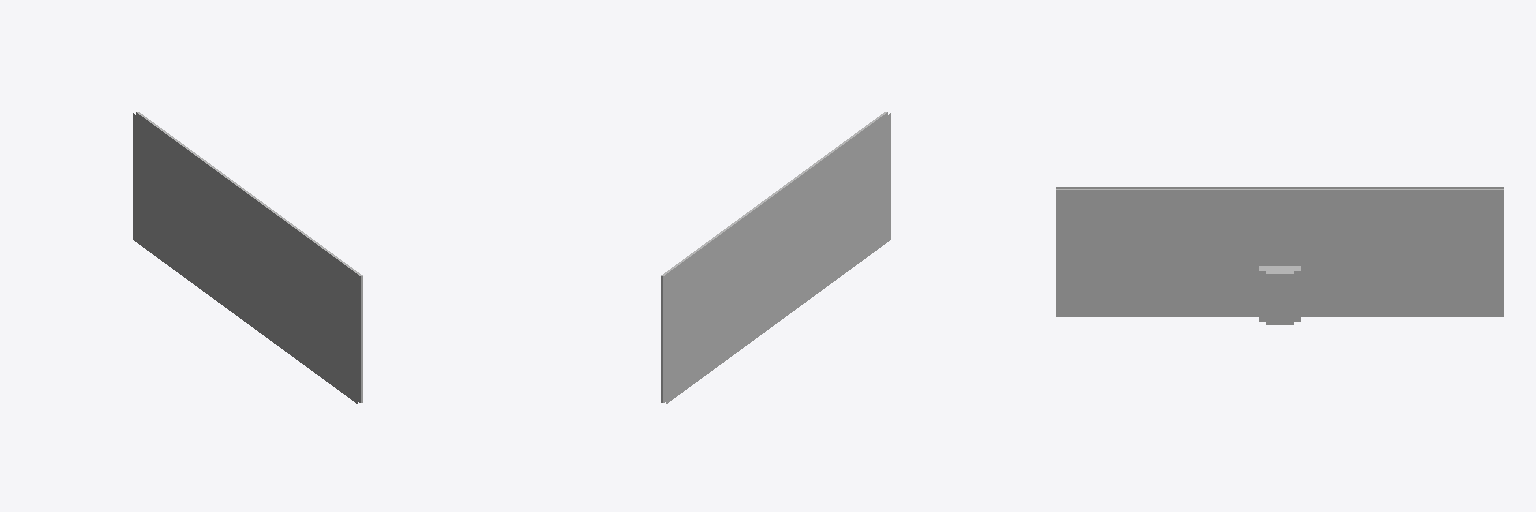
Rendered from speed_direction_right_large.obj.
3 renders of one model, left to right at view 1: azimuth 30°, elevation 25°; view 2: azimuth 150°, elevation 25°; view 3: azimuth 270°, elevation 25°, orthographic.
Parts seen in each view (by area): view 1: cube; view 2: cube; view 3: cube.
Boxes of the visible parts, <box> form: cube: <box>133,112,362,403</box>; cube: <box>661,112,890,403</box>; cube: <box>1056,187,1503,324</box>.
Bounding box in the file's own units: 0.0547 × 0.3125 × 1.